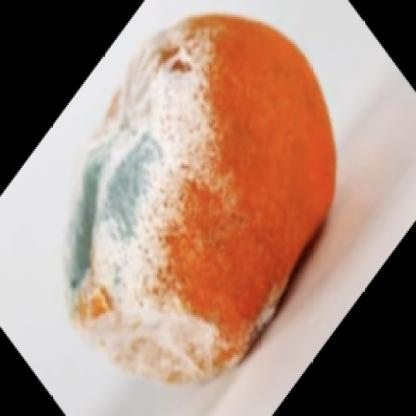rotten: (65, 13, 337, 388)
